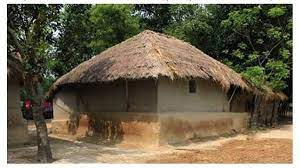Mud House: (43, 28, 247, 147)
